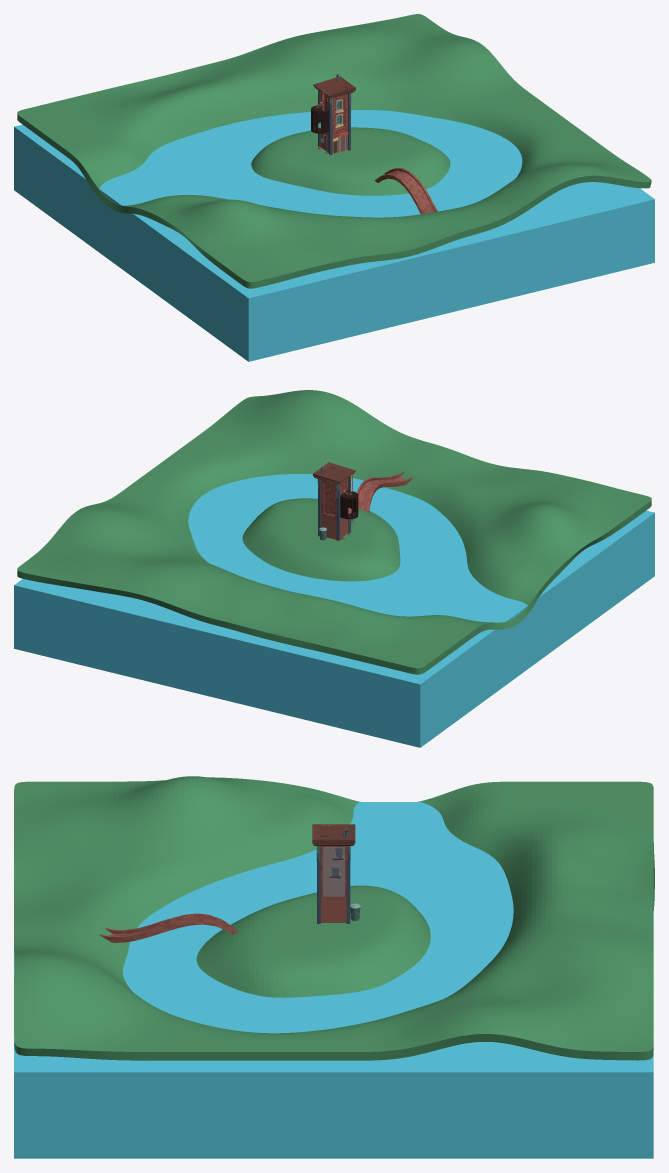
Rendered from bpw2expo.fbx.
3 renders of one model, top to bottom at view 1: azimuth 30°, elevation 25°; view 2: azimuth 150°, elevation 25°; view 3: azimuth 270°, elevation 25°, orthographic. The views are drawn at different scales.
Parts seen in each view (by area): view 1: Plane.001, Cube.054, Cube.055, Cube, Cube.029; view 2: Plane.001, Cube.054, Cube, Cube.055, Cube.029; view 3: Plane.001, Cube.054, Cube.055, Cube.008, Cube, Cube.029, Cube.002.
Part boxes in pixels (left/top/right/bottom): Plane.001: left=17, top=14, right=651, bottom=288; Cube.054: left=14, top=110, right=654, bottom=361; Cube.055: left=374, top=168, right=437, bottom=214; Cube: left=320, top=92, right=347, bottom=153; Cube.029: left=313, top=76, right=355, bottom=98; Plane.001: left=17, top=390, right=651, bottom=674; Cube.054: left=14, top=474, right=654, bottom=747; Cube: left=321, top=478, right=348, bottom=539; Cube.055: left=357, top=472, right=412, bottom=512; Cube.029: left=313, top=462, right=355, bottom=484; Plane.001: left=14, top=776, right=654, bottom=1060; Cube.054: left=14, top=802, right=653, bottom=1158; Cube.055: left=99, top=913, right=238, bottom=942; Cube.008: left=323, top=847, right=344, bottom=896; Cube: left=321, top=846, right=346, bottom=922; Cube.029: left=312, top=824, right=355, bottom=845; Cube.002: left=317, top=846, right=350, bottom=923.
Bounding box in the file's own units: 4433 × 1514 × 4410.
